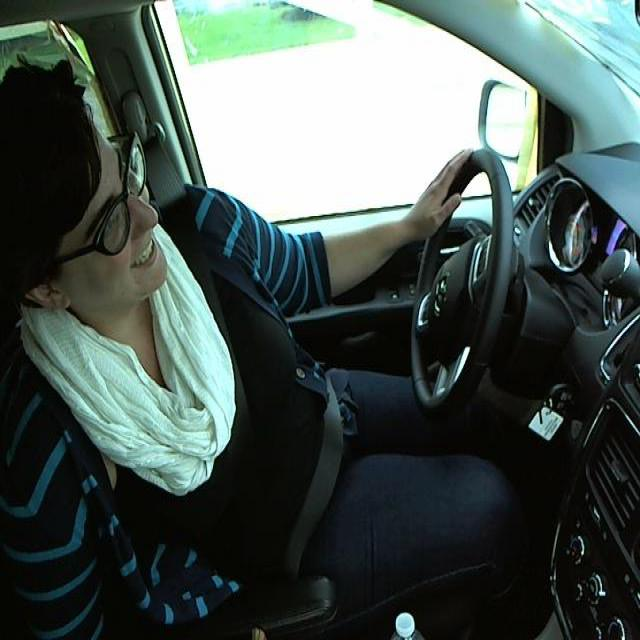seatbelt: (181, 248, 352, 581)
